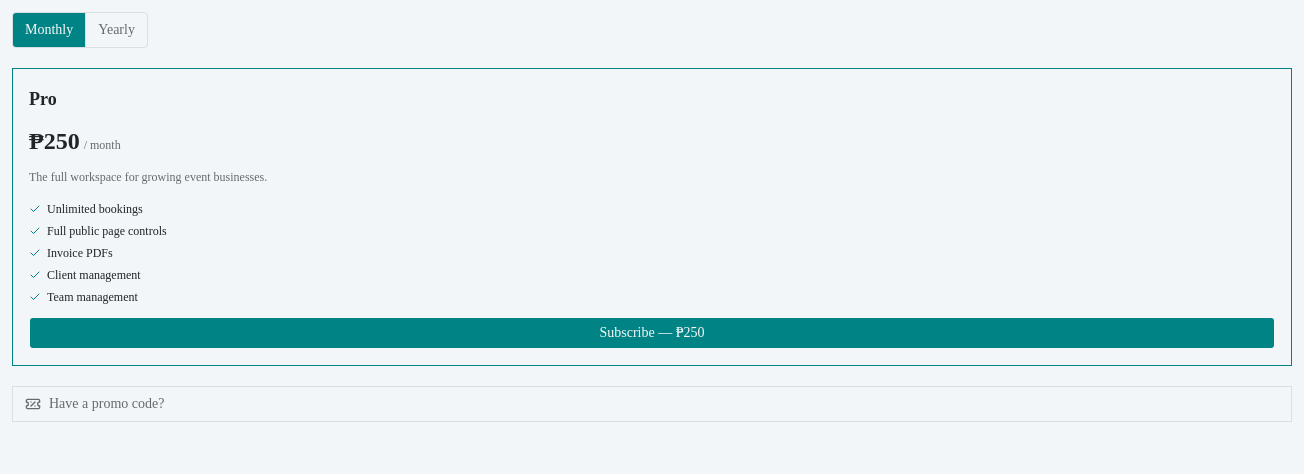
it: SubscribePanel — checkout › shows an inline error when the checkout API fails
Click the button "Subscribe — ₱250". click: {"x": 652, "y": 333}
box: [29, 317, 1275, 349]
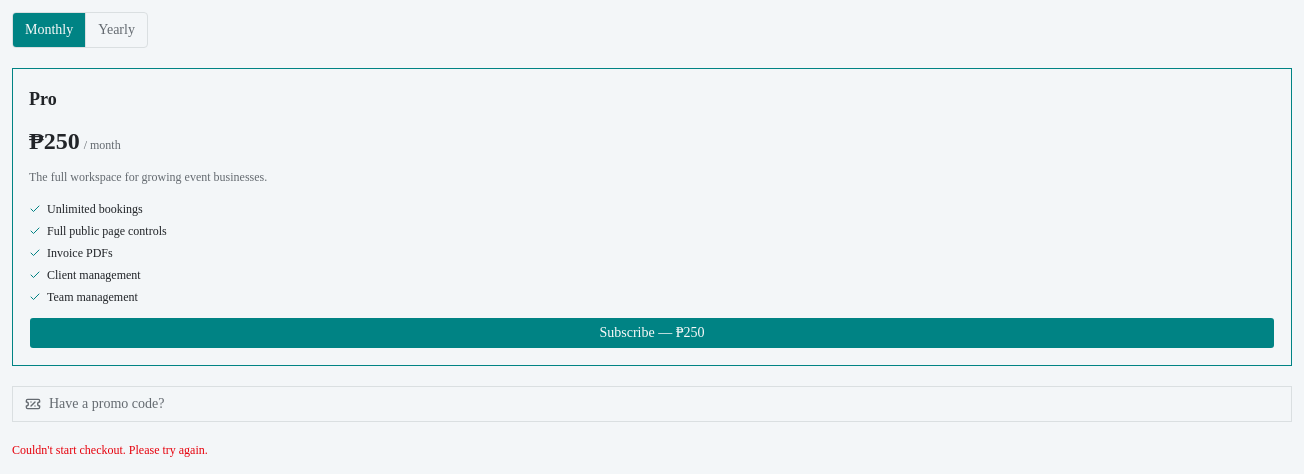
expect the message "Couldn't start checkout. Please try again." is shown: met, box [12, 443, 208, 457]
